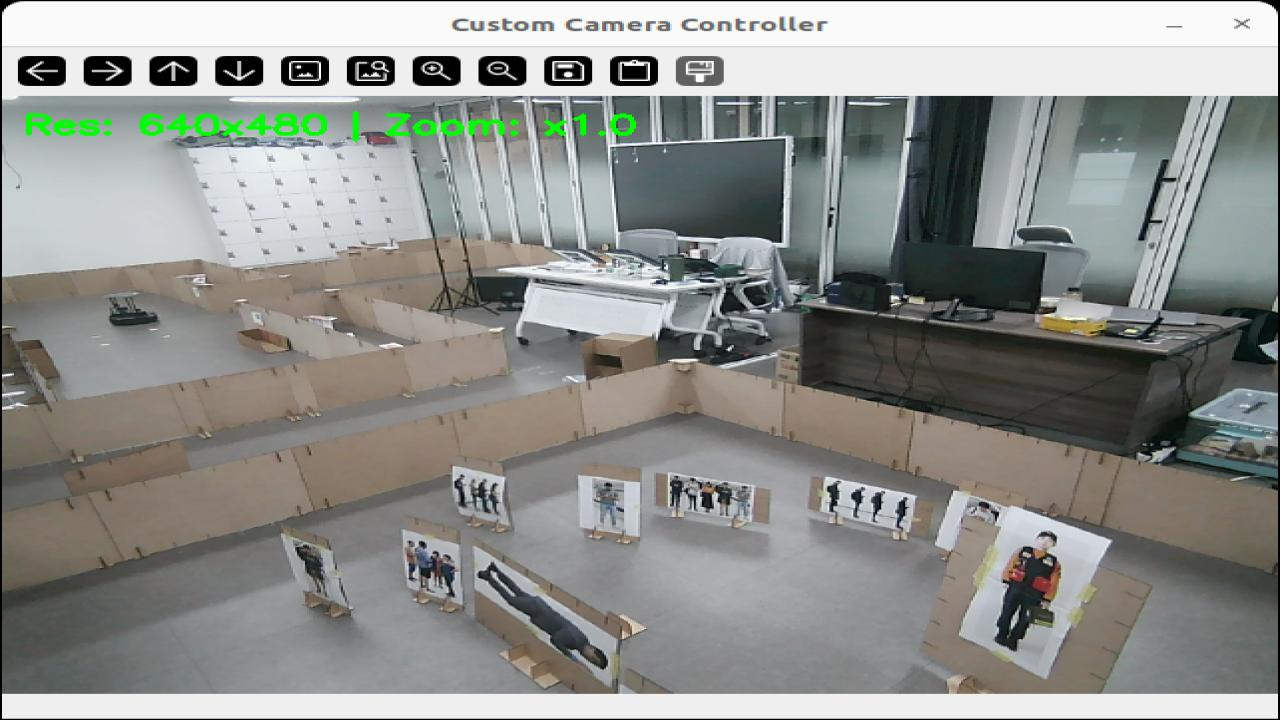Crowd: (296, 545, 326, 594), (411, 541, 430, 590), (597, 483, 618, 525), (439, 555, 456, 596), (967, 501, 996, 524), (734, 486, 751, 518), (714, 483, 731, 515), (668, 474, 683, 508), (405, 541, 416, 582), (826, 481, 839, 513), (896, 498, 909, 530), (700, 481, 713, 513), (477, 480, 490, 511), (872, 491, 885, 521), (453, 476, 466, 506), (684, 480, 697, 509), (852, 488, 864, 518), (469, 478, 480, 509), (491, 484, 500, 514), (431, 551, 438, 587)
Patient: (477, 562, 606, 668)
Responder: (997, 531, 1060, 648)
